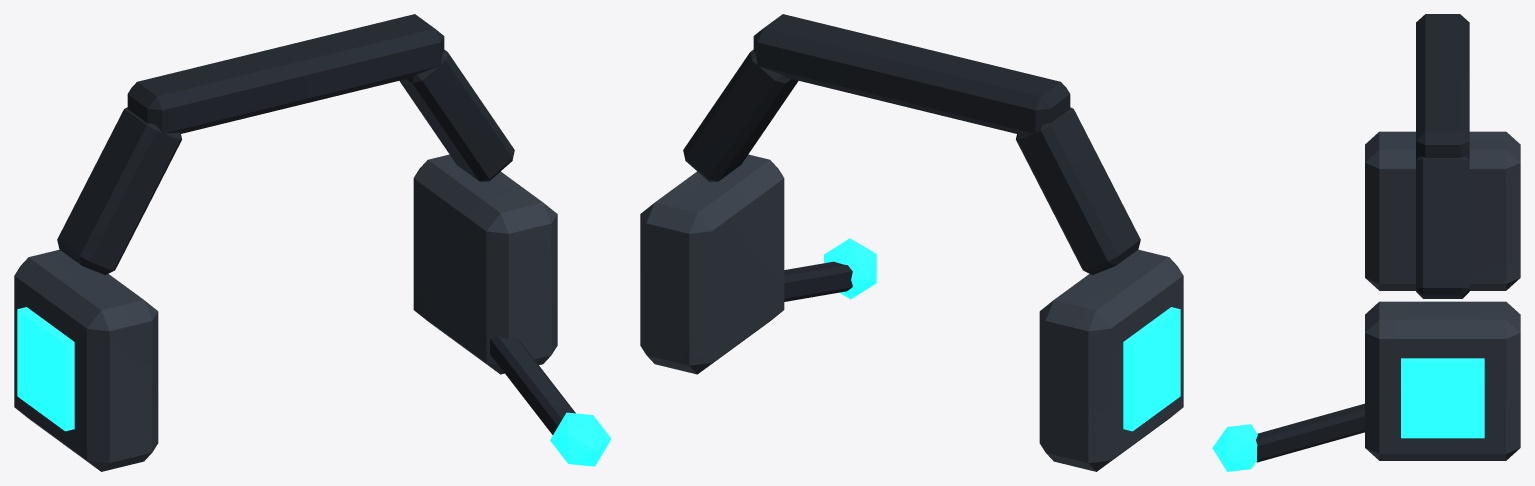
The model's file is gear.head.pilot_headset.glb.
The picture shows the model from 3 angles, left to right: view 1: azimuth 30°, elevation 25°; view 2: azimuth 150°, elevation 25°; view 3: azimuth 270°, elevation 25°; orthographic projection. The views are drawn at different scales.
Visible parts, largest first — view 1: head@pilot_headset.base, head@pilot_headset.emissive.cyan; view 2: head@pilot_headset.base, head@pilot_headset.emissive.cyan; view 3: head@pilot_headset.base, head@pilot_headset.emissive.cyan.
Boxes of the visible parts, x1,y1,x2,y2 form: head@pilot_headset.base: (14, 14, 575, 471); head@pilot_headset.emissive.cyan: (17, 307, 611, 466); head@pilot_headset.base: (640, 14, 1183, 471); head@pilot_headset.emissive.cyan: (824, 238, 1180, 431); head@pilot_headset.base: (1256, 14, 1520, 462); head@pilot_headset.emissive.cyan: (1212, 358, 1484, 471).
Bounding box in the file's own units: 0.3502 × 0.2504 × 0.2189.
